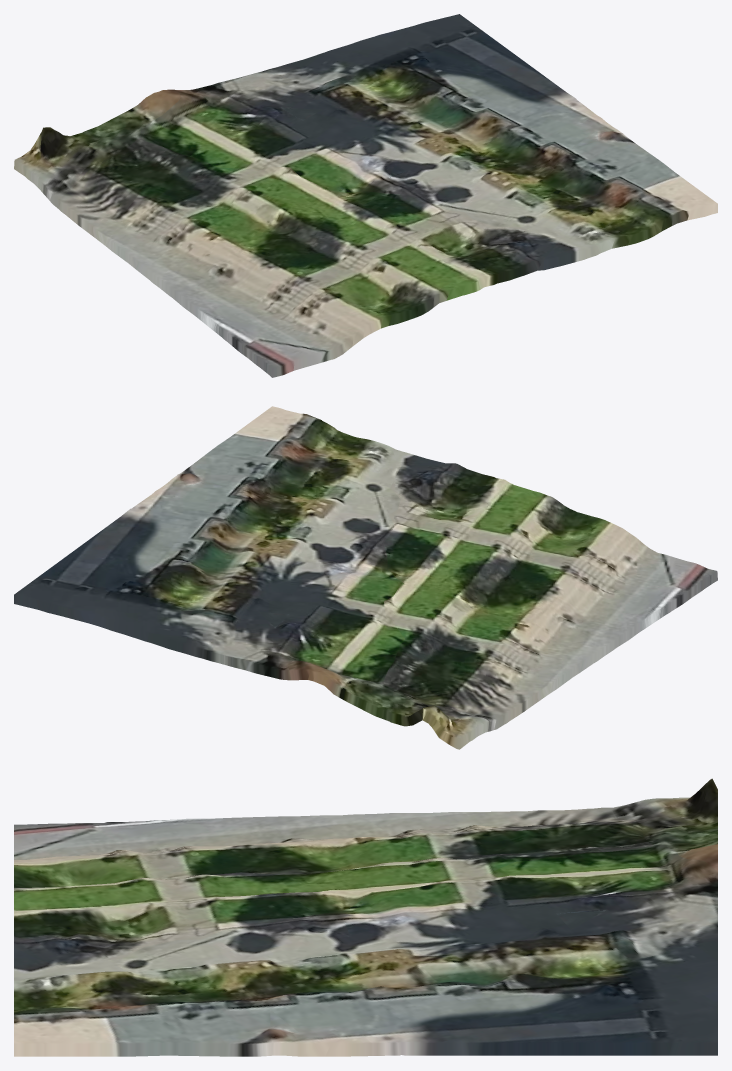
Rendered from z20-167749-405249-h0-yup-uvflip-v3-world.glb.
3 views of the same model, one above another, from view 1: azimuth 30°, elevation 25°; view 2: azimuth 150°, elevation 25°; view 3: azimuth 270°, elevation 25° (orthographic). The views are drawn at different scales.
Bounding box in the file's own units: 30.2 × 4.52 × 30.32.
Materials: 1 (1 with a texture image).
